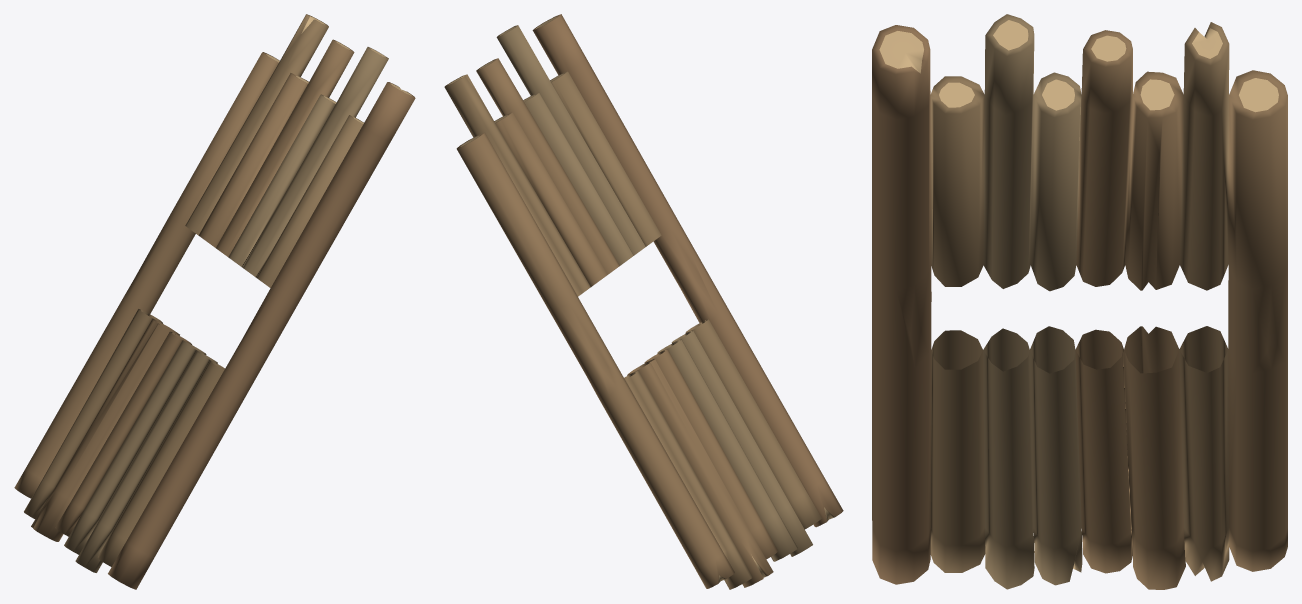
File: rpgpp_ag_roof_01d_6x5x3_half.fbx
The picture shows the model from 3 angles, left to right: view 1: azimuth 30°, elevation 25°; view 2: azimuth 150°, elevation 25°; view 3: azimuth 270°, elevation 25°; orthographic projection. The views are drawn at different scales.
Parts seen in each view (by area): view 1: rpgpp_ag_roof_01d_6x5x3_half; view 2: rpgpp_ag_roof_01d_6x5x3_half; view 3: rpgpp_ag_roof_01d_6x5x3_half.
Boxes of the visible parts, <box> form: rpgpp_ag_roof_01d_6x5x3_half: <box>14,14,415,589</box>; rpgpp_ag_roof_01d_6x5x3_half: <box>444,14,843,589</box>; rpgpp_ag_roof_01d_6x5x3_half: <box>872,14,1287,589</box>.
Bounding box in the file's own units: 4.62 × 6.46 × 3.
